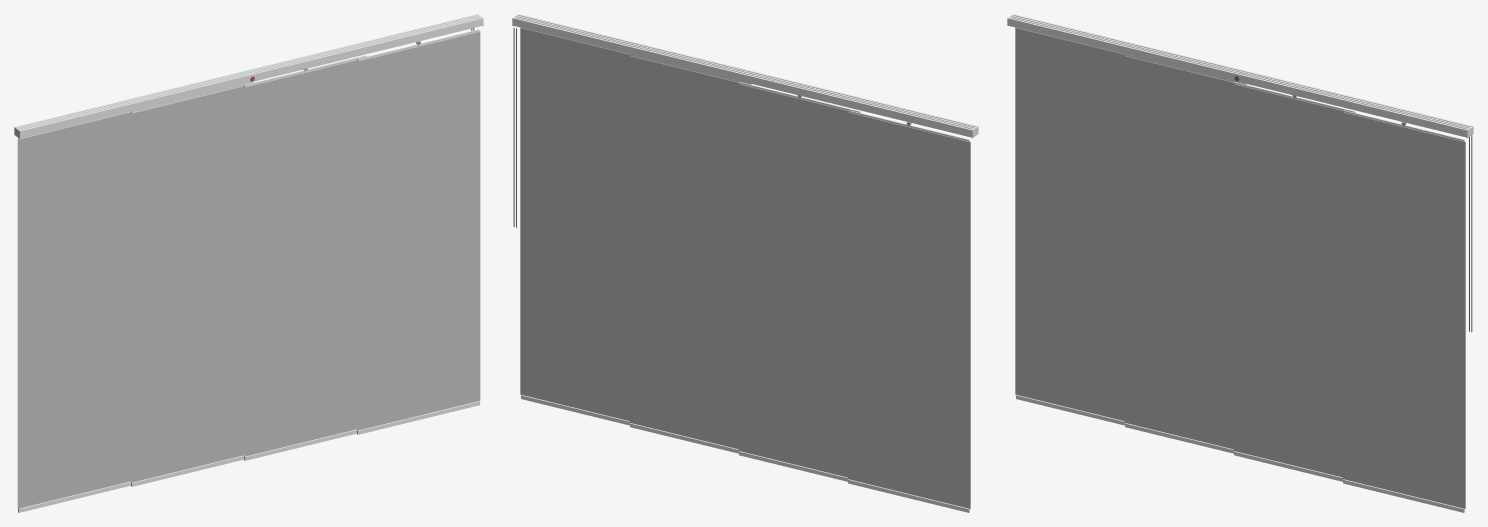
File: before-panel-white-closed.glb
The picture shows the model from 3 angles, left to right: view 1: azimuth 30°, elevation 25°; view 2: azimuth 150°, elevation 25°; view 3: azimuth 330°, elevation 25°; orthographic projection.
Visible parts, largest first — view 1: PANEL_TELO_4, PANEL_TELO_1, PANEL_TELO_2, PANEL_TELO_3, PANEL_RAIL_PROFILE_WAY_4, PANEL_RAIL_PROFILE_WAY_3, PANEL_RAIL_PROFILE_WAY_1, PANEL_RAIL_PROFILE_WAY_2, PANEL_BOTTOM_WEIGHT_4, PANEL_BOTTOM_WEIGHT_1, PANEL_BOTTOM_WEIGHT_2, PANEL_BOTTOM_WEIGHT_3; view 2: PANEL_TELO_1, PANEL_TELO_4, PANEL_TELO_2, PANEL_TELO_3, PANEL_RAIL_PROFILE_WAY_1, PANEL_RAIL_PROFILE_WAY_2, PANEL_RAIL_PROFILE_WAY_4, PANEL_RAIL_PROFILE_WAY_3, PANEL_BOTTOM_WEIGHT_1, PANEL_BOTTOM_WEIGHT_2, PANEL_BOTTOM_WEIGHT_3, PANEL_BOTTOM_WEIGHT_4; view 3: PANEL_TELO_4, PANEL_TELO_1, PANEL_TELO_2, PANEL_TELO_3, PANEL_RAIL_PROFILE_WAY_4, PANEL_RAIL_PROFILE_WAY_3, PANEL_RAIL_PROFILE_WAY_1, PANEL_RAIL_PROFILE_WAY_2, PANEL_BOTTOM_WEIGHT_4, PANEL_BOTTOM_WEIGHT_2, PANEL_BOTTOM_WEIGHT_3, PANEL_BOTTOM_WEIGHT_1.
Part boxes in pixels (x1,y1,x2,y2): PANEL_TELO_4: (356, 31, 480, 430); PANEL_TELO_1: (17, 112, 131, 508); PANEL_TELO_2: (130, 86, 244, 482); PANEL_TELO_3: (243, 60, 357, 456); PANEL_RAIL_PROFILE_WAY_4: (21, 18, 482, 138); PANEL_RAIL_PROFILE_WAY_3: (19, 16, 480, 130); PANEL_RAIL_PROFILE_WAY_1: (16, 14, 477, 127); PANEL_RAIL_PROFILE_WAY_2: (17, 15, 478, 128); PANEL_BOTTOM_WEIGHT_4: (357, 401, 480, 434); PANEL_BOTTOM_WEIGHT_1: (18, 481, 130, 512); PANEL_BOTTOM_WEIGHT_2: (131, 455, 243, 486); PANEL_BOTTOM_WEIGHT_3: (244, 429, 356, 460); PANEL_TELO_1: (847, 112, 970, 508); PANEL_TELO_4: (520, 27, 630, 420); PANEL_TELO_2: (738, 84, 848, 477); PANEL_TELO_3: (629, 56, 739, 449); PANEL_RAIL_PROFILE_WAY_1: (513, 18, 972, 137); PANEL_RAIL_PROFILE_WAY_2: (515, 16, 973, 129); PANEL_RAIL_PROFILE_WAY_4: (518, 14, 976, 126); PANEL_RAIL_PROFILE_WAY_3: (517, 15, 975, 128); PANEL_BOTTOM_WEIGHT_1: (848, 479, 969, 512); PANEL_BOTTOM_WEIGHT_2: (739, 451, 848, 481); PANEL_BOTTOM_WEIGHT_3: (629, 423, 738, 453); PANEL_BOTTOM_WEIGHT_4: (520, 395, 629, 425); PANEL_TELO_4: (1342, 112, 1465, 508); PANEL_TELO_1: (1015, 27, 1125, 420); PANEL_TELO_2: (1124, 56, 1234, 449); PANEL_TELO_3: (1233, 84, 1343, 477); PANEL_RAIL_PROFILE_WAY_4: (1008, 18, 1467, 137); PANEL_RAIL_PROFILE_WAY_3: (1010, 16, 1468, 129); PANEL_RAIL_PROFILE_WAY_1: (1013, 14, 1471, 126); PANEL_RAIL_PROFILE_WAY_2: (1012, 15, 1470, 128); PANEL_BOTTOM_WEIGHT_4: (1343, 479, 1464, 512); PANEL_BOTTOM_WEIGHT_2: (1124, 423, 1233, 453); PANEL_BOTTOM_WEIGHT_3: (1234, 451, 1343, 481); PANEL_BOTTOM_WEIGHT_1: (1015, 395, 1124, 425).
Bounding box in the file's own units: 3.02 × 2.4 × 0.088.
Materials: 5 (2 with a texture image).
